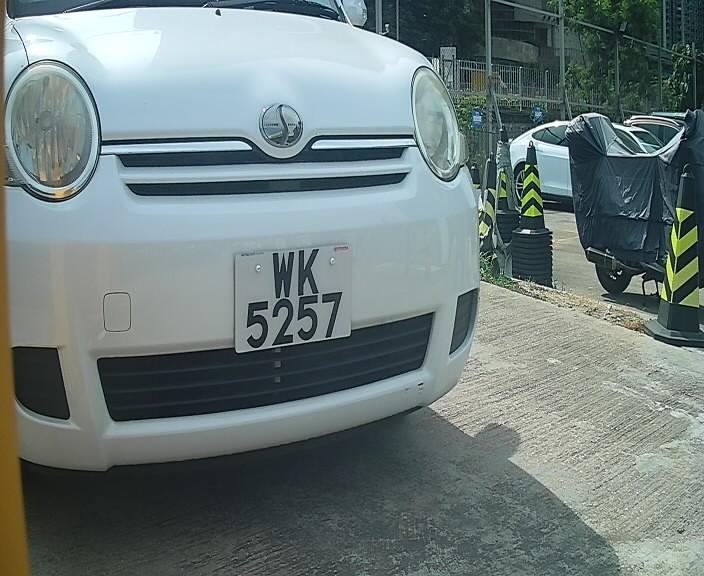Car: (10, 1, 500, 515)
License Plate: (224, 235, 365, 368)
